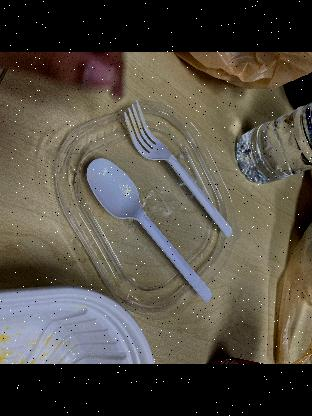Others: (70, 157, 210, 306), (116, 104, 230, 242)
